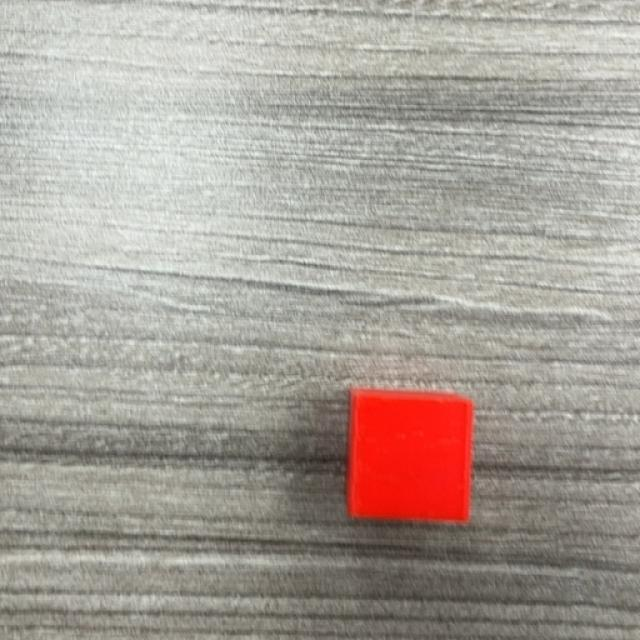Rojo: (345, 389, 475, 528)
